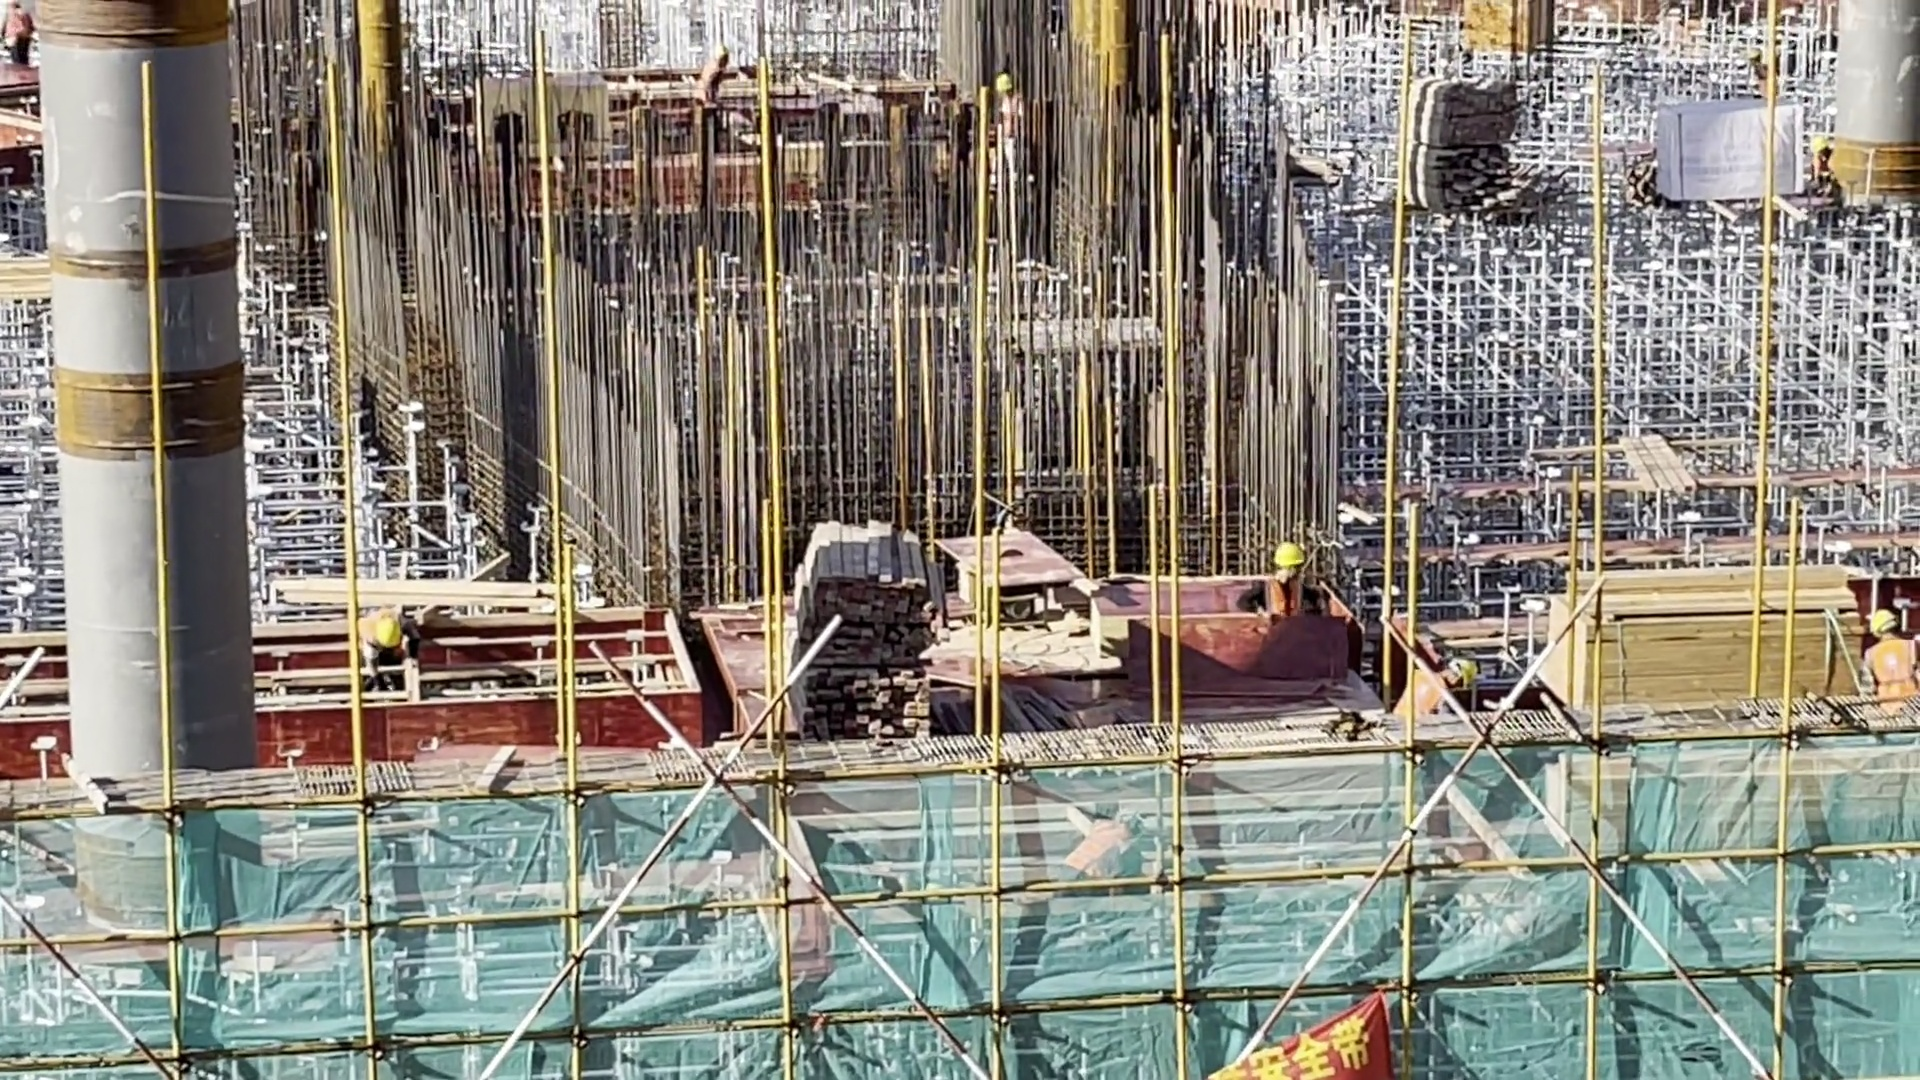helmet: (370, 611, 408, 652), (1273, 532, 1308, 574), (1860, 604, 1897, 639)
person: (1229, 534, 1344, 641), (347, 586, 444, 695), (1844, 595, 1920, 724)
slogan: (1187, 993, 1413, 1080)
vest: (1867, 628, 1918, 705), (1255, 572, 1317, 622)
wood: (1529, 542, 1874, 743), (775, 491, 940, 750)
